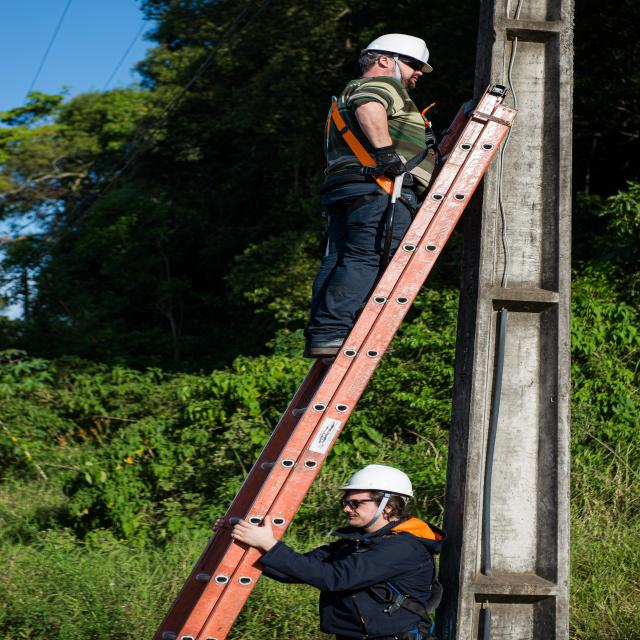capacete: (338, 463, 419, 502), (358, 33, 434, 73)
luva: (369, 143, 409, 178)
